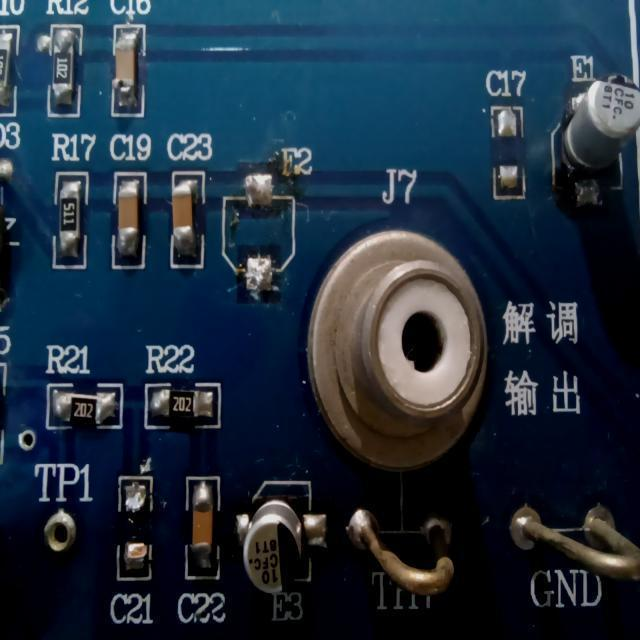Missing component: (216, 135, 317, 318), (480, 51, 535, 216), (111, 452, 157, 638)
